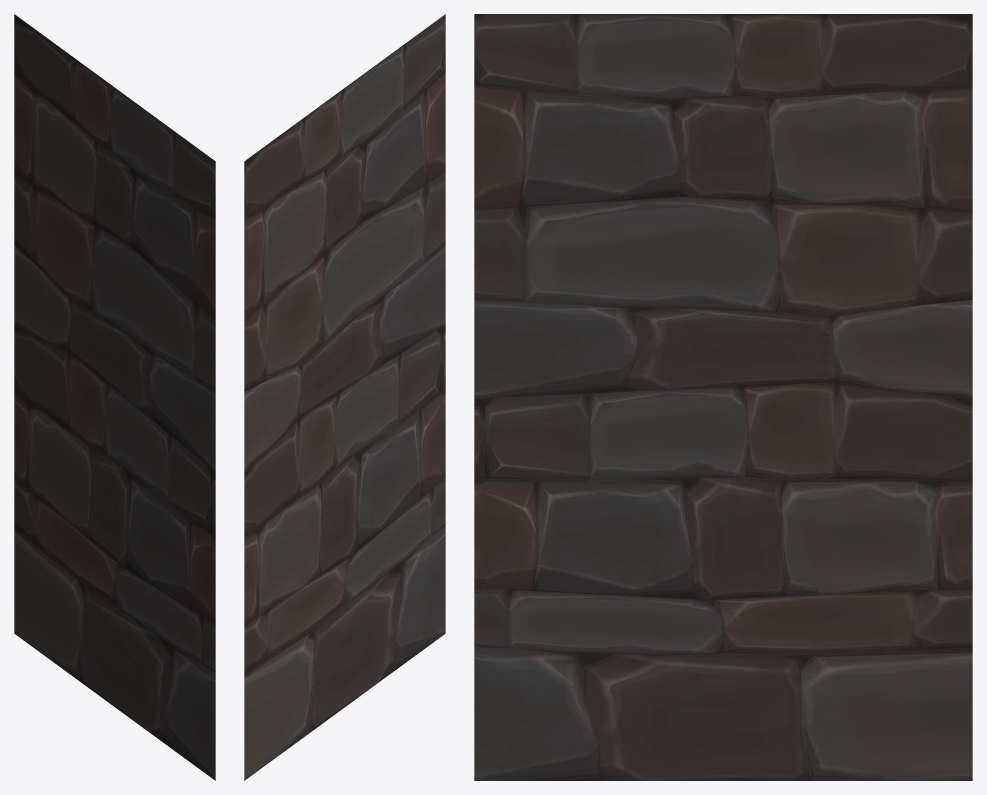
Rendered from A_CA_GEN_WallPanel_01.fbx.
The picture shows the model from 3 angles, left to right: view 1: azimuth 30°, elevation 25°; view 2: azimuth 150°, elevation 25°; view 3: azimuth 270°, elevation 25°; orthographic projection. The views are drawn at different scales.
Visible parts, largest first — view 1: A_CA_GEN_WallPanel_01; view 2: A_CA_GEN_WallPanel_01; view 3: A_CA_GEN_WallPanel_01.
Boxes of the visible parts, bbox=[...] form: A_CA_GEN_WallPanel_01: bbox=[14, 14, 215, 780]; A_CA_GEN_WallPanel_01: bbox=[244, 14, 445, 780]; A_CA_GEN_WallPanel_01: bbox=[474, 14, 972, 780].
Bounding box in the file's own units: 0.000244 × 1188 × 700.
1 material, 1 textured.
